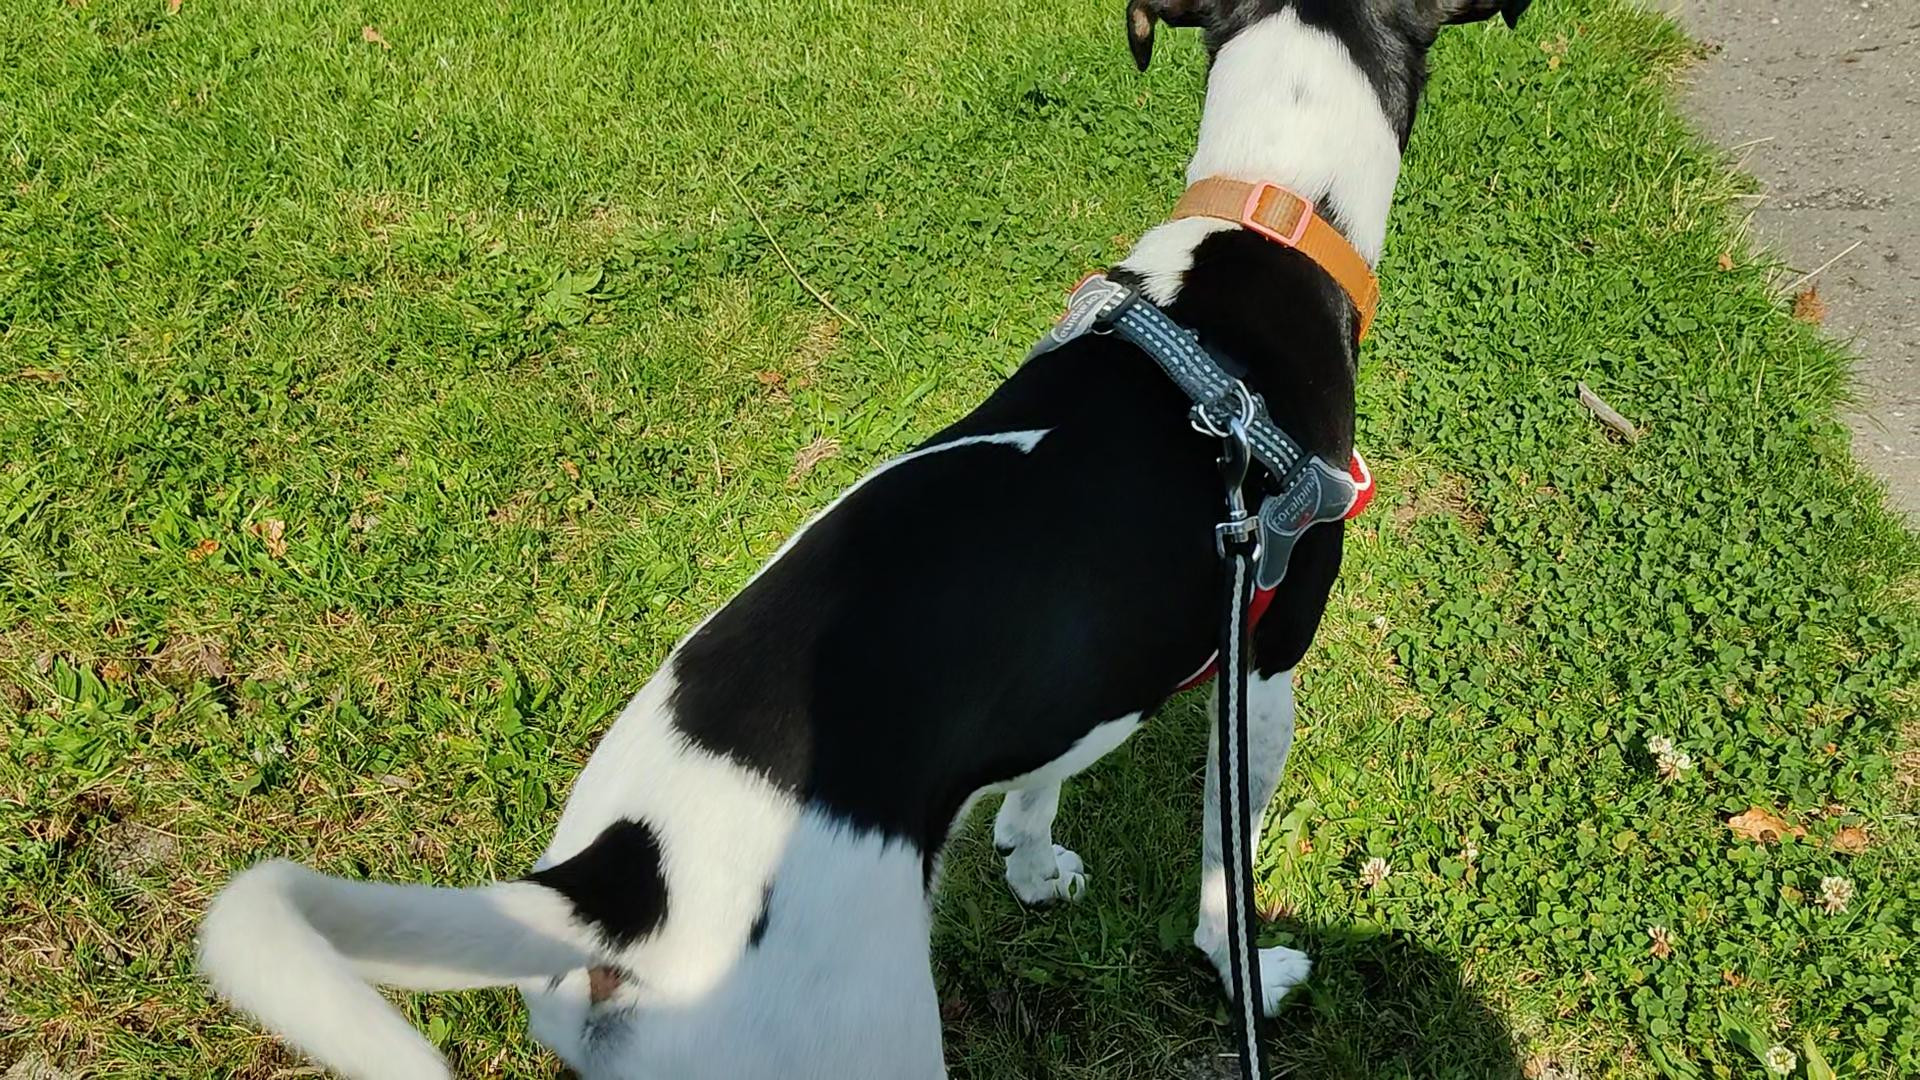Dog: (181, 0, 1543, 1079)
